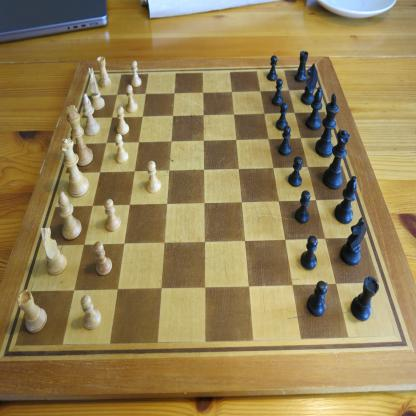black-bishop: (334, 174, 357, 224), (305, 86, 323, 130)
black-king: (314, 92, 340, 158)
black-knight: (340, 216, 366, 266), (300, 63, 318, 106)
black-pawn: (306, 280, 327, 317), (300, 235, 318, 271), (294, 190, 311, 224), (288, 155, 303, 188), (278, 125, 292, 156), (275, 102, 288, 131), (272, 78, 284, 107), (266, 55, 278, 82)
black-queen: (322, 128, 351, 191)
black-rook: (350, 275, 379, 321), (294, 50, 309, 82)
white-bishop: (58, 190, 82, 241), (82, 93, 101, 137)
white-king: (66, 104, 94, 167)
white-knight: (40, 227, 67, 276), (88, 67, 105, 111)
white-pawn: (80, 295, 102, 330), (94, 241, 112, 276), (104, 197, 121, 232), (145, 160, 162, 194), (114, 133, 129, 164), (115, 106, 128, 136), (126, 84, 138, 114), (130, 59, 142, 87)
white-queen: (59, 136, 89, 198)
white-rook: (16, 289, 48, 334), (96, 56, 112, 89)
